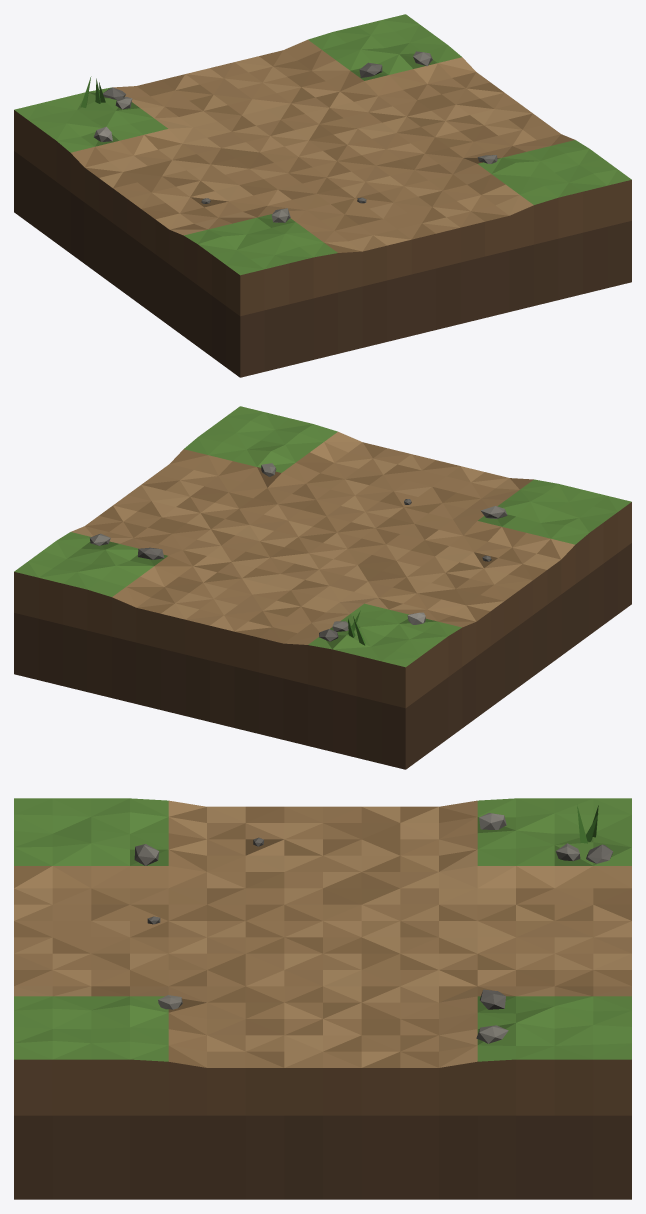
File: road_cross.glb
The picture shows the model from 3 angles, top to bottom: view 1: azimuth 30°, elevation 25°; view 2: azimuth 150°, elevation 25°; view 3: azimuth 270°, elevation 25°; orthographic projection. The views are drawn at different scales.
Visible parts, largest first — view 1: RoadCross; view 2: RoadCross; view 3: RoadCross.
Part boxes in pixels (box(x1,y1,x2,y2)): RoadCross: box(14, 14, 631, 377); RoadCross: box(14, 406, 631, 769); RoadCross: box(14, 798, 631, 1199).
Size of the model in its own units: 2 by 0.6343 by 2.
